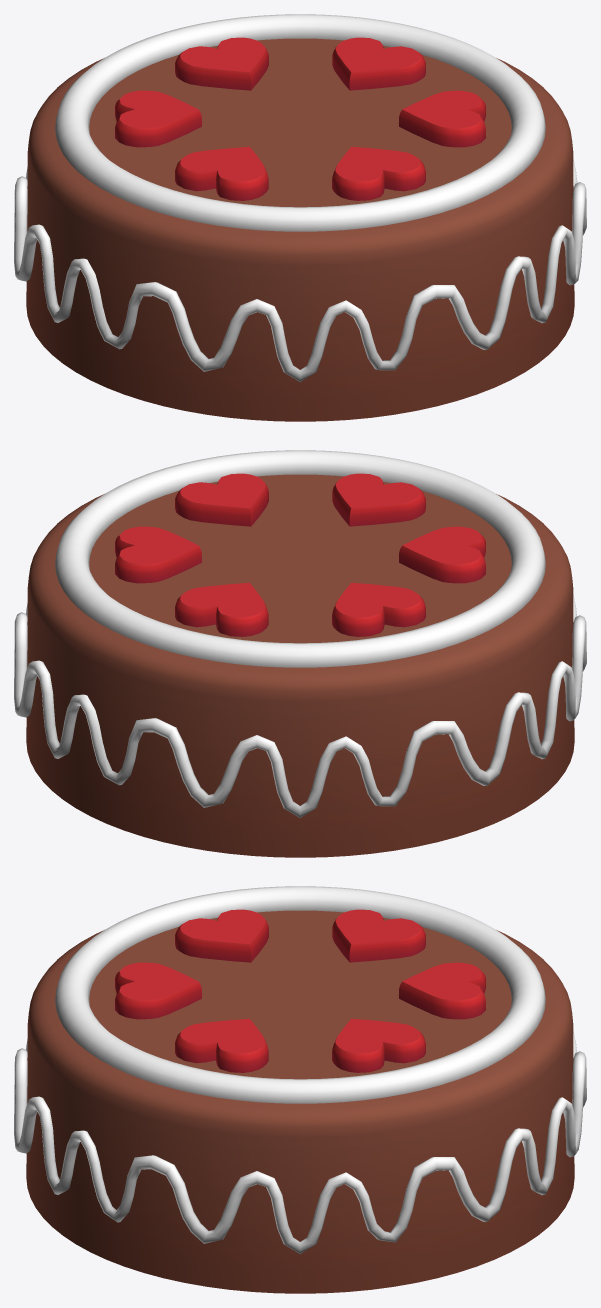
Rendered from cake11.FBX.
3 views of the same model, one above another, from view 1: azimuth 30°, elevation 25°; view 2: azimuth 150°, elevation 25°; view 3: azimuth 270°, elevation 25° (orthographic).
Parts seen in each view (by area): view 1: cake11; view 2: cake11; view 3: cake11.
Boxes of the visible parts, <box> form: cake11: <box>14,14,586,421</box>; cake11: <box>14,450,586,857</box>; cake11: <box>14,886,586,1293</box>.
Bounding box in the file's own units: 0.0201 × 0.00763 × 0.0202.
